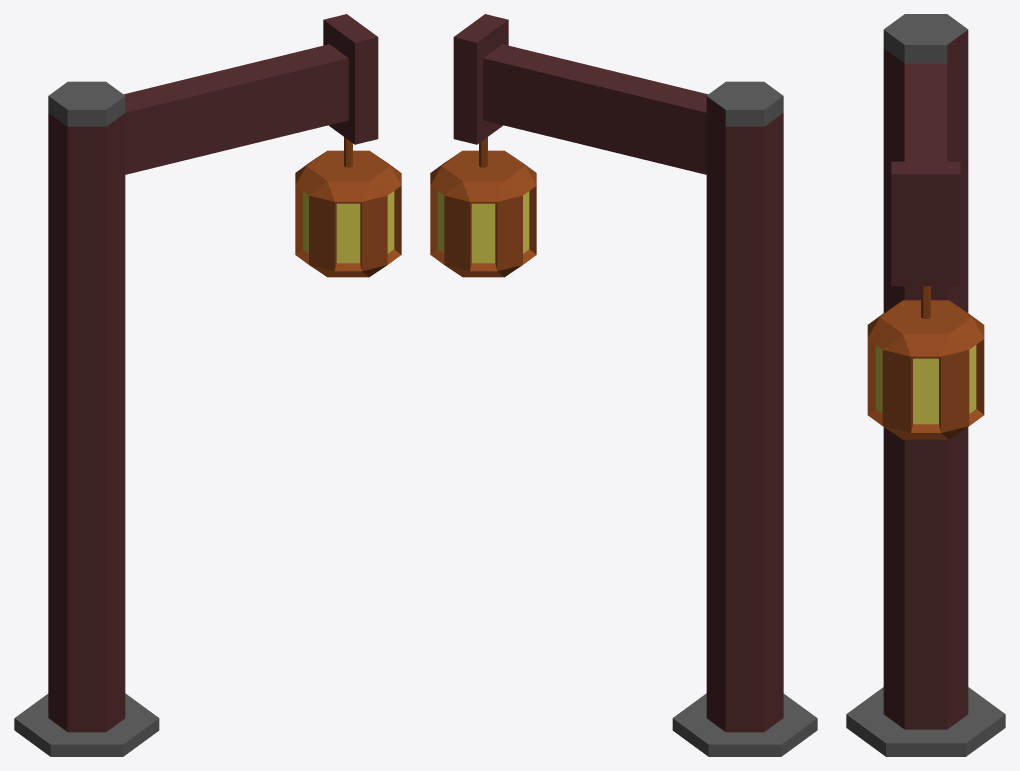
Rendered from Lampu-1.fbx.
3 renders of one model, left to right at view 1: azimuth 30°, elevation 25°; view 2: azimuth 150°, elevation 25°; view 3: azimuth 270°, elevation 25°, orthographic. The views are drawn at different scales.
Parts seen in each view (by area): view 1: Tiang, Lampu; view 2: Tiang, Lampu; view 3: Tiang, Lampu.
Part boxes in pixels (box(x1,y1,x2,y2)): Tiang: box(14, 14, 378, 756); Lampu: box(295, 137, 401, 277); Tiang: box(453, 14, 817, 756); Lampu: box(430, 137, 536, 277); Tiang: box(846, 14, 1005, 756); Lampu: box(867, 286, 984, 439).
Bounding box in the file's own units: 455 × 766 × 158.
